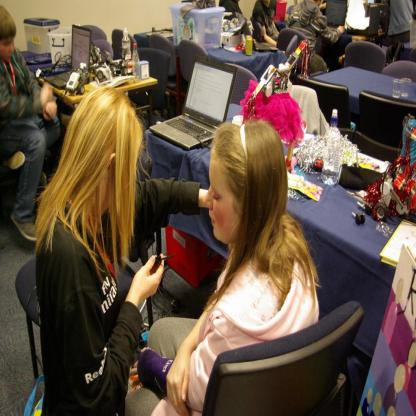board: (149, 42, 254, 158), (45, 24, 91, 88), (322, 104, 340, 184), (122, 28, 132, 76), (130, 40, 141, 80), (245, 35, 253, 54)
